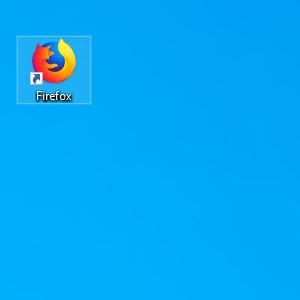firefox: (29, 38, 77, 85)
